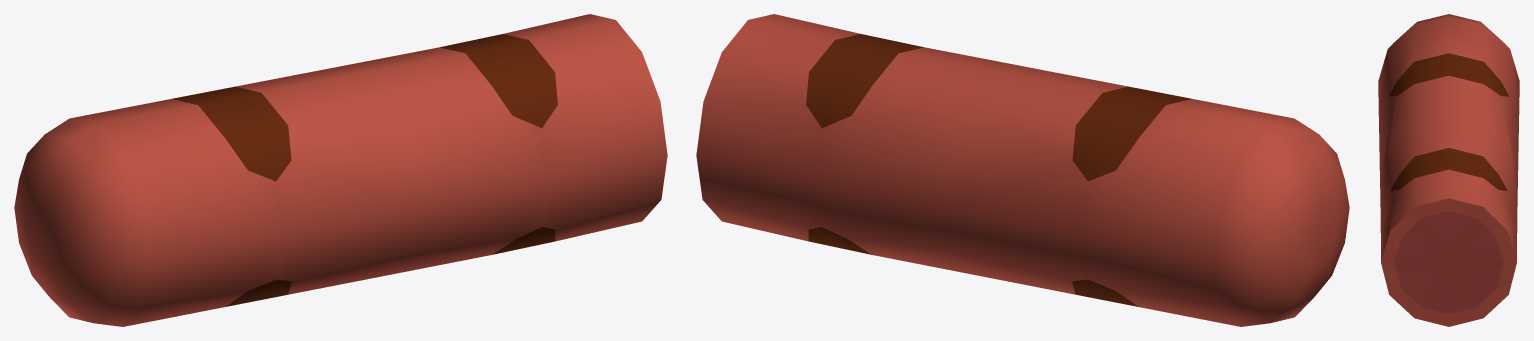
The model's file is Sausage_gril_half.001.fbx.
3 renders of one model, left to right at view 1: azimuth 30°, elevation 25°; view 2: azimuth 150°, elevation 25°; view 3: azimuth 270°, elevation 25°, orthographic. The views are drawn at different scales.
Parts seen in each view (by area): view 1: Sausage_gril_half.001; view 2: Sausage_gril_half.001; view 3: Sausage_gril_half.001.
Boxes of the visible parts, <box> form: Sausage_gril_half.001: <box>14,14,667,326</box>; Sausage_gril_half.001: <box>696,14,1349,326</box>; Sausage_gril_half.001: <box>1378,14,1519,326</box>.
Bounding box in the file's own units: 79.77 × 25.88 × 28.84.
